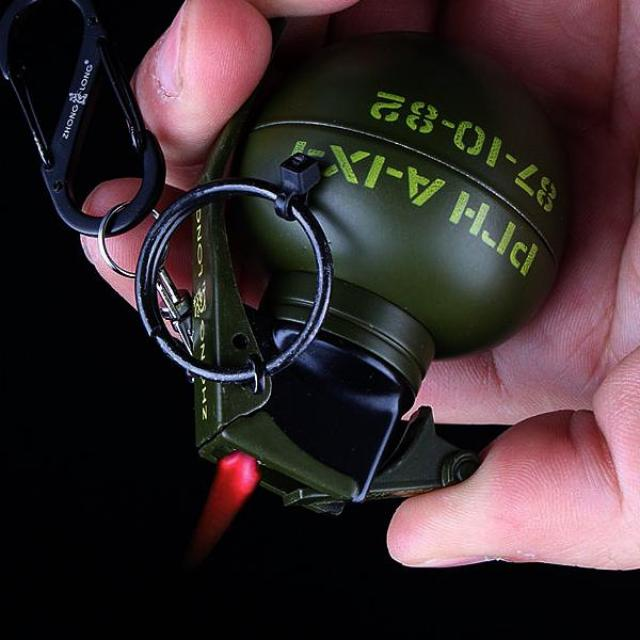grenade: (136, 30, 574, 518)
